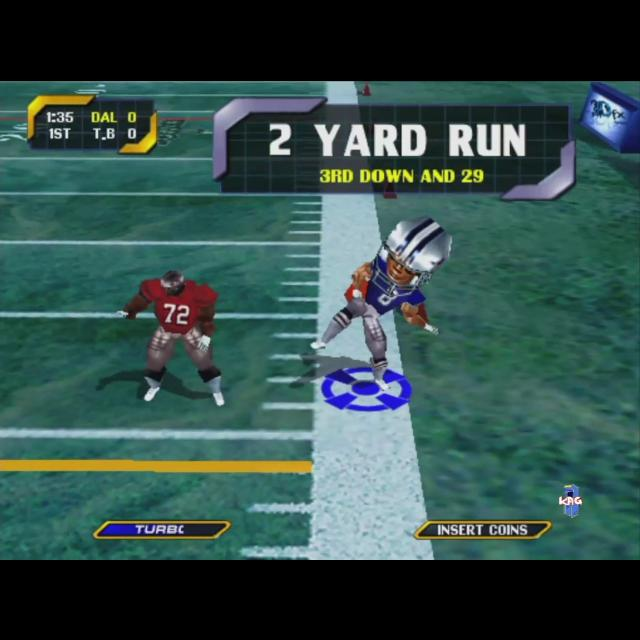player: (316, 212, 454, 390), (118, 270, 226, 404)
